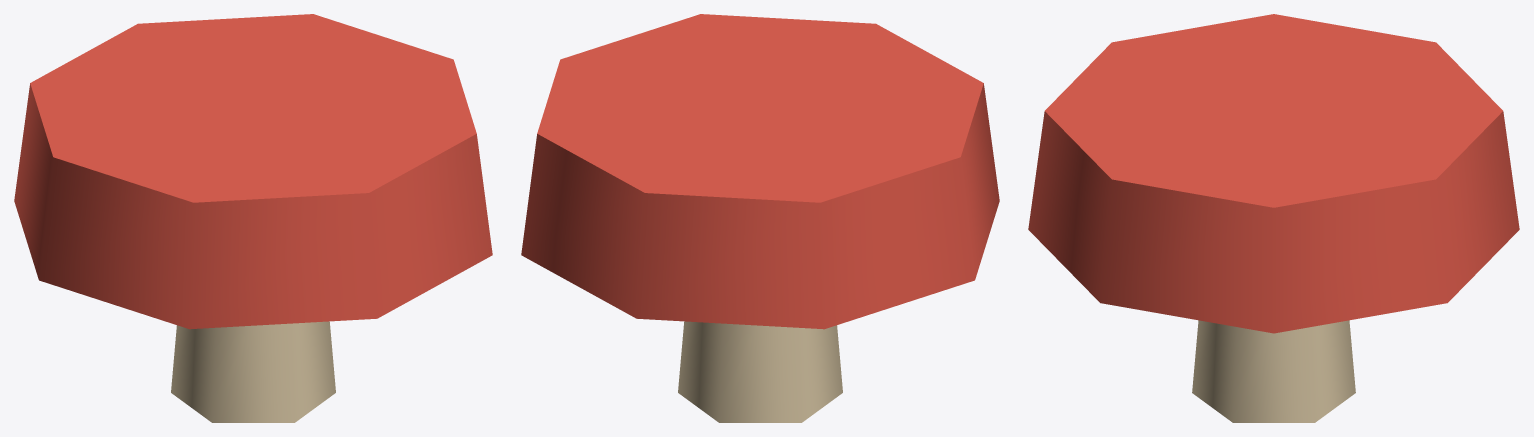
Rendered from mushroom.glb.
3 renders of one model, left to right at view 1: azimuth 30°, elevation 25°; view 2: azimuth 150°, elevation 25°; view 3: azimuth 270°, elevation 25°, orthographic.
Visible parts, largest first — view 1: mushroom; view 2: mushroom; view 3: mushroom.
Part boxes in pixels (x1=…): mushroom: x1=14, y1=14, x2=492, y2=422; mushroom: x1=521, y1=14, x2=999, y2=422; mushroom: x1=1028, y1=14, x2=1519, y2=422.
Bounding box in the file's own units: 0.6 × 0.38 × 0.6.
